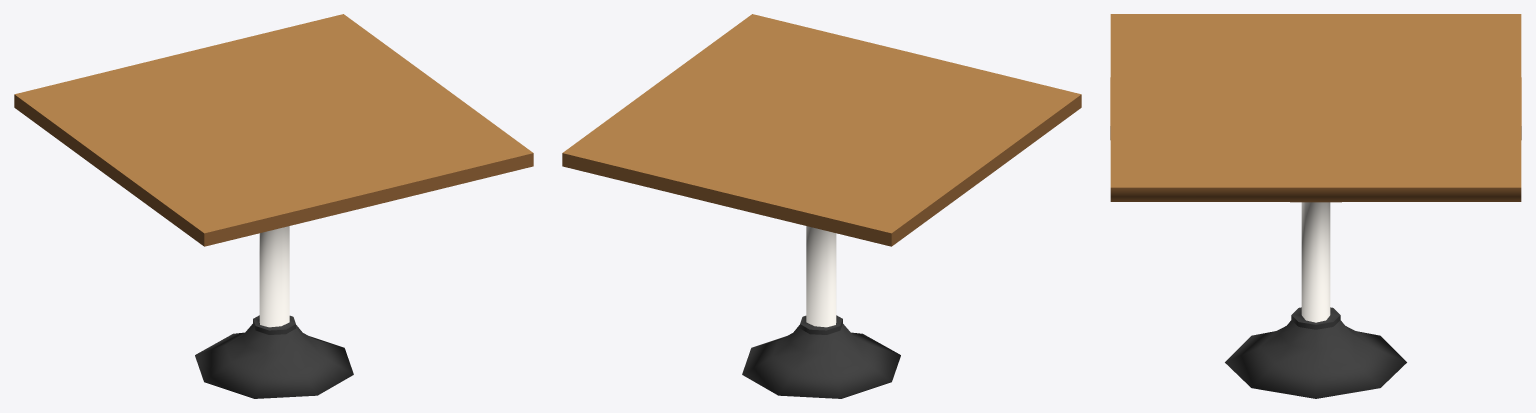
The model's file is table_square.fbx.
The picture shows the model from 3 angles, left to right: view 1: azimuth 30°, elevation 25°; view 2: azimuth 150°, elevation 25°; view 3: azimuth 270°, elevation 25°; orthographic projection. The views are drawn at different scales.
Visible parts, largest first — view 1: mesh_TableSmall; view 2: mesh_TableSmall; view 3: mesh_TableSmall.
Part boxes in pixels (bbox=[...]): mesh_TableSmall: bbox=[14, 14, 533, 398]; mesh_TableSmall: bbox=[562, 14, 1081, 398]; mesh_TableSmall: bbox=[1110, 14, 1521, 398].
Bounding box in the file's own units: 1 × 0.7 × 1.
